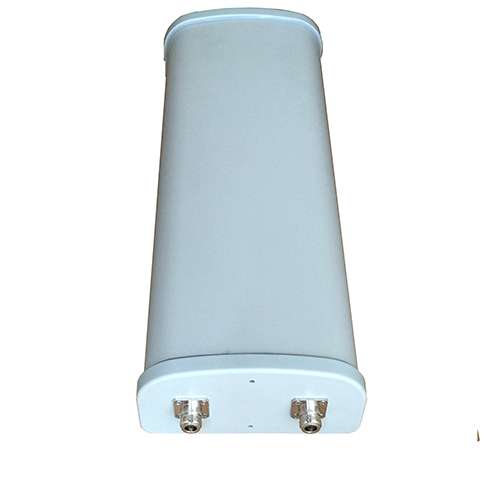sa: (141, 9, 375, 458)
